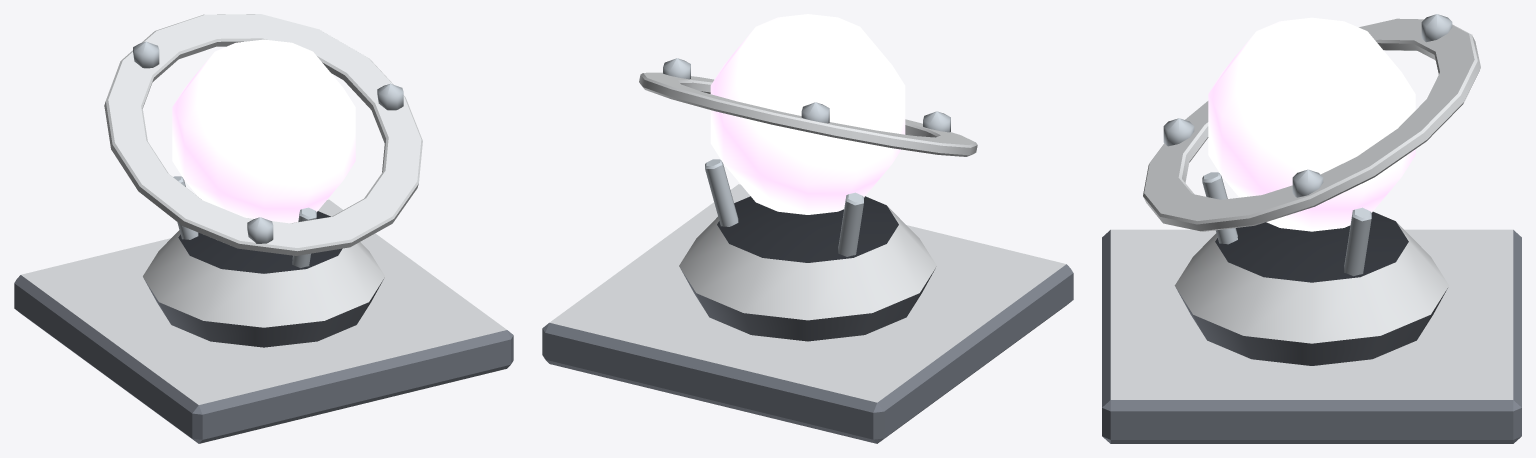
File: R4X_OrbAmplifier_LOD1.fbx
3 renders of one model, left to right at view 1: azimuth 30°, elevation 25°; view 2: azimuth 150°, elevation 25°; view 3: azimuth 270°, elevation 25°, orthographic. The views are drawn at different scales.
Visible parts, largest first — view 1: R4X_OrbAmplifier_LOD1; view 2: R4X_OrbAmplifier_LOD1; view 3: R4X_OrbAmplifier_LOD1.
Part boxes in pixels (x1,y1,x2,y2): R4X_OrbAmplifier_LOD1: [14, 14, 513, 443]; R4X_OrbAmplifier_LOD1: [542, 14, 1073, 443]; R4X_OrbAmplifier_LOD1: [1102, 14, 1521, 443].
Bounding box in the file's own units: 0.52 × 0.455 × 0.52.
